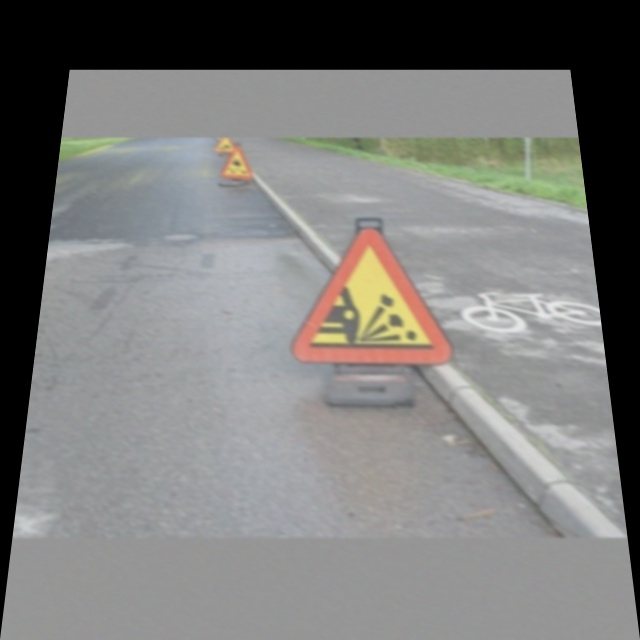Loose_Gravel: (302, 224, 446, 361)
